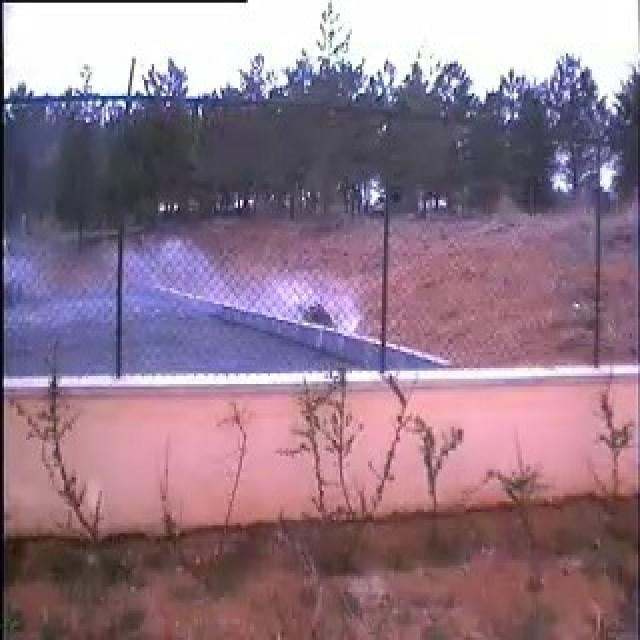smoke: (76, 243, 362, 367)
